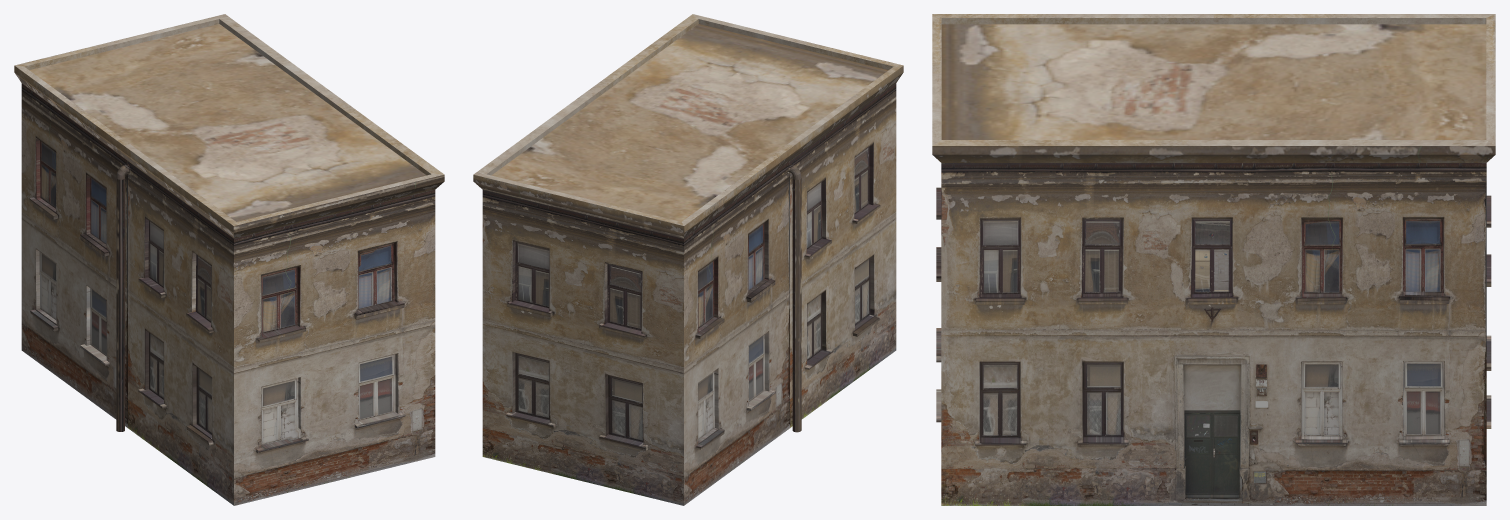
The model's file is house.glb.
The picture shows the model from 3 angles, left to right: view 1: azimuth 30°, elevation 25°; view 2: azimuth 150°, elevation 25°; view 3: azimuth 270°, elevation 25°; orthographic projection. The views are drawn at different scales.
Parts seen in each view (by area): view 1: Material_001-material; view 2: Material_001-material; view 3: Material_001-material.
Part boxes in pixels (box(x1,y1,x2,y2)): Material_001-material: box(14, 14, 444, 505); Material_001-material: box(473, 14, 903, 505); Material_001-material: box(932, 14, 1495, 505).
Size of the model in its own units: 7.19 by 8.94 by 12.53.
Materials: 1 (1 with a texture image).
